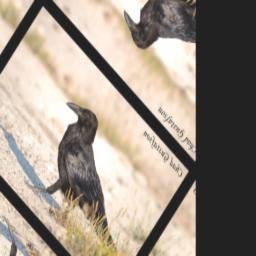Crow: (18, 89, 162, 256)
